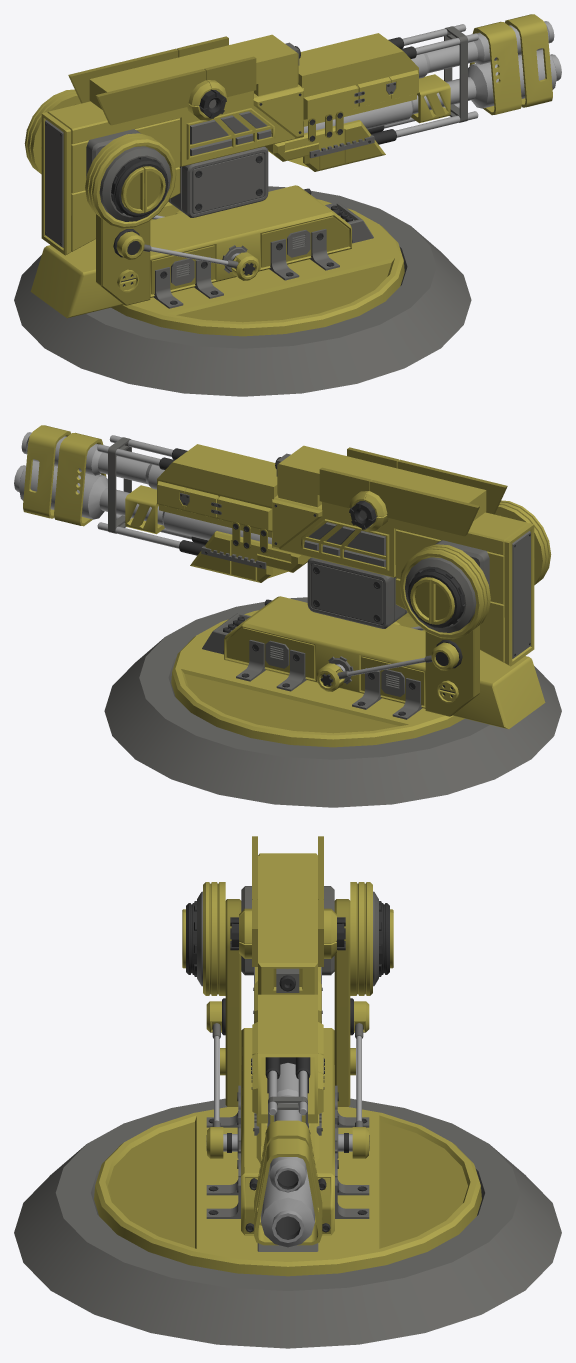
Rendered from p1_Blaze.glb.
3 renders of one model, top to bottom at view 1: azimuth 30°, elevation 25°; view 2: azimuth 150°, elevation 25°; view 3: azimuth 270°, elevation 25°, orthographic. The views are drawn at different scales.
Parts seen in each view (by area): view 1: pCylinder22, pCylinder23, pCube1, pCube5, pCube9, polySurface28, pCube7, pCube6, polySurface53, pCylinder3, polySurface55, pCube10 (+24 smaller); view 2: pCylinder22, pCylinder23, pCube1, pCube5, pCube9, polySurface28, pCube7, pCube6, polySurface53, pCylinder3, polySurface55, pCube10 (+24 smaller); view 3: pCylinder22, pCylinder23, pCube7, pCube9, polySurface55, pCube1, polySurface53, pCylinder3, Turret_Detail_pCube13, pCylinder4, polySurface49, polySurface28 (+11 smaller).
Part boxes in pixels (bbox=[...]): pCylinder22: bbox=[14, 186, 471, 396]; pCylinder23: bbox=[111, 199, 404, 336]; pCube1: bbox=[30, 185, 351, 318]; pCube5: bbox=[41, 84, 303, 255]; pCube9: bbox=[298, 33, 418, 126]; polySurface28: bbox=[68, 36, 256, 125]; pCube7: bbox=[89, 34, 298, 109]; pCube6: bbox=[168, 146, 268, 217]; polySurface53: bbox=[24, 89, 176, 228]; pCylinder3: bbox=[304, 49, 561, 133]; polySurface55: bbox=[96, 214, 150, 305]; pCube10: bbox=[265, 120, 385, 171]; pCylinder22: bbox=[104, 597, 561, 807]; pCylinder23: bbox=[171, 610, 464, 747]; pCube1: bbox=[224, 596, 545, 729]; pCube5: bbox=[272, 495, 534, 666]; pCube9: bbox=[157, 444, 277, 537]; polySurface28: bbox=[319, 447, 507, 536]; pCube7: bbox=[277, 445, 486, 520]; pCube6: bbox=[307, 557, 407, 628]; polySurface53: bbox=[399, 500, 551, 639]; pCylinder3: bbox=[14, 460, 271, 544]; polySurface55: bbox=[425, 625, 479, 716]; pCube10: bbox=[190, 531, 310, 582]; pCylinder22: bbox=[14, 1098, 561, 1348]; pCylinder23: bbox=[94, 1107, 481, 1276]; pCube7: bbox=[258, 856, 317, 994]; pCube9: bbox=[252, 994, 323, 1123]; polySurface55: bbox=[225, 899, 350, 1106]; pCube1: bbox=[241, 1028, 334, 1235]; polySurface53: bbox=[203, 882, 372, 995]; pCylinder3: bbox=[261, 1170, 314, 1247]; Turret_Detail_pCube13: bbox=[254, 1138, 322, 1245]; pCylinder4: bbox=[269, 1063, 306, 1192]; polySurface49: bbox=[186, 901, 389, 976]; polySurface28: bbox=[252, 836, 323, 966].
Bounding box in the file's own units: 6.85 × 3.24 × 5.31.
